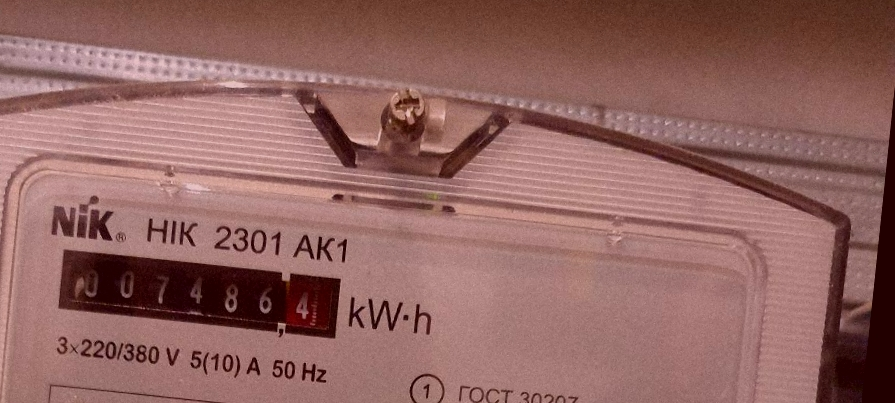0: (79, 264, 102, 300), (116, 266, 137, 301)
4: (185, 271, 206, 307), (292, 287, 312, 322)
6: (255, 283, 277, 317)
7: (148, 271, 174, 306)
8: (221, 280, 241, 317)
screen: (46, 236, 351, 351)
